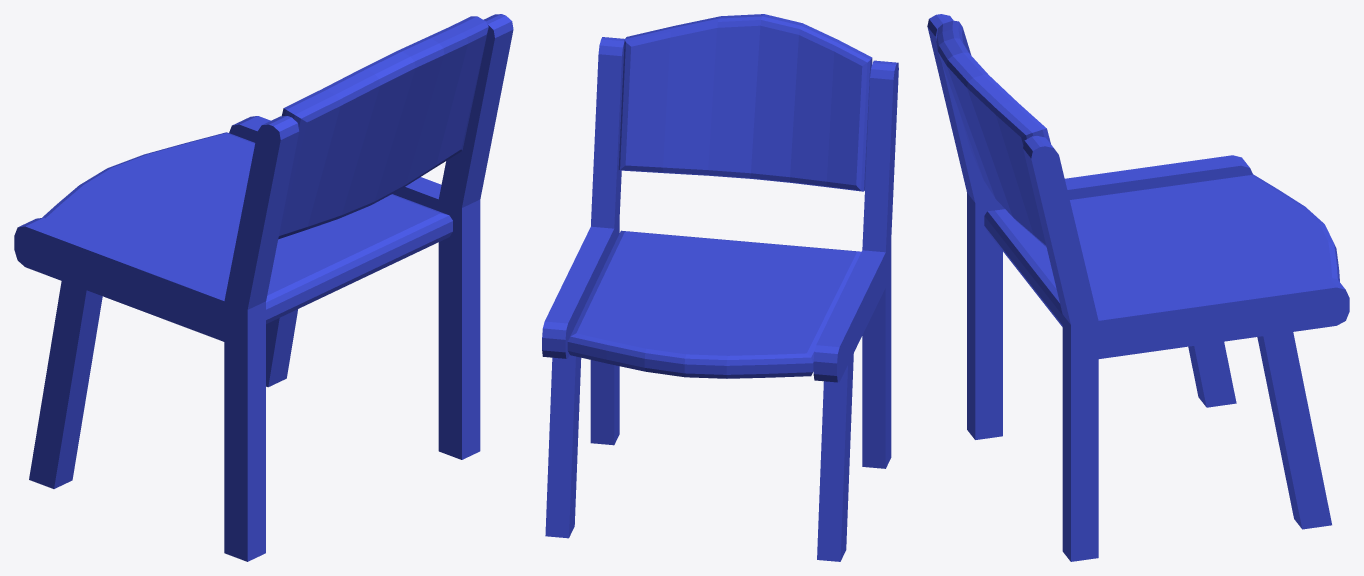
Rendered from Chair.fbx.
3 renders of one model, left to right at view 1: azimuth 30°, elevation 25°; view 2: azimuth 150°, elevation 25°; view 3: azimuth 270°, elevation 25°, orthographic. The views are drawn at different scales.
Visible parts, largest first — view 1: Chair; view 2: Chair; view 3: Chair.
Part boxes in pixels (x1,y1,x2,y2): Chair: [14, 14, 513, 561]; Chair: [542, 14, 898, 561]; Chair: [927, 14, 1349, 561].
Size of the model in its own units: 114 by 135 by 115.
